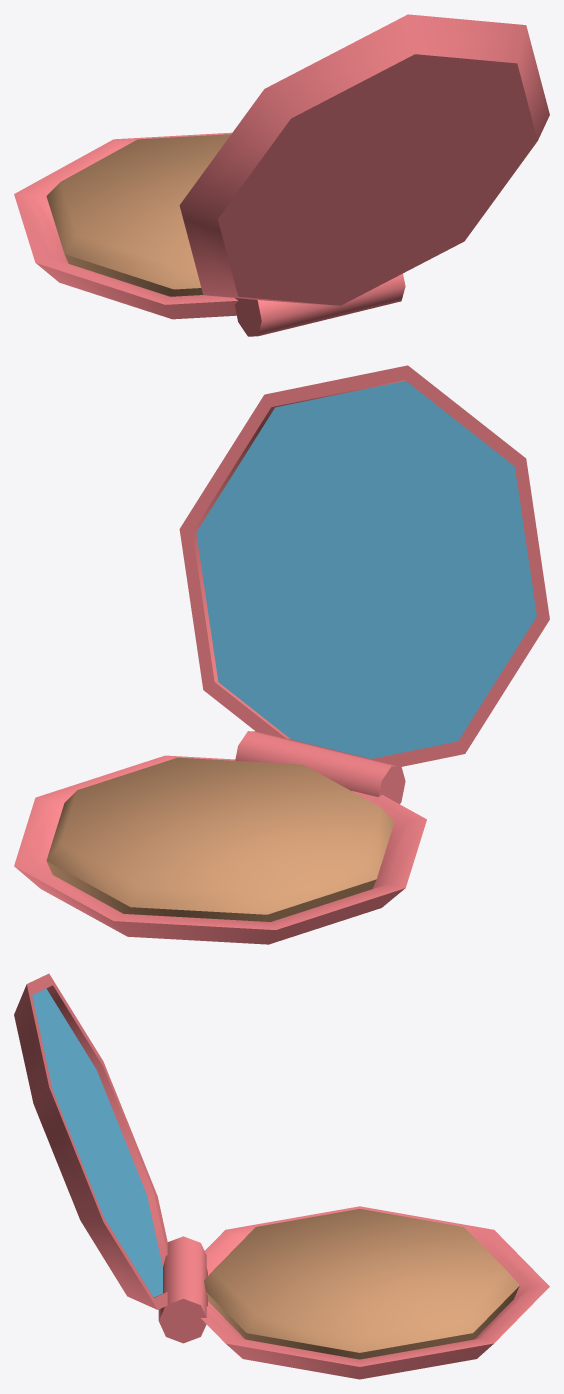
File: Make Up Powder Open.glb
The picture shows the model from 3 angles, top to bottom: view 1: azimuth 30°, elevation 25°; view 2: azimuth 150°, elevation 25°; view 3: azimuth 270°, elevation 25°; orthographic projection. The views are drawn at different scales.
Parts seen in each view (by area): view 1: make up_powder_open.001, make up_powder_sponge.001; view 2: make up_powder_open.001, make up_powder_sponge.001; view 3: make up_powder_open.001, make up_powder_sponge.001.
Boxes of the visible parts, bbox=[...] form: make up_powder_open.001: bbox=[14, 14, 549, 336]; make up_powder_sponge.001: bbox=[46, 134, 231, 296]; make up_powder_open.001: bbox=[14, 365, 549, 944]; make up_powder_sponge.001: bbox=[46, 757, 394, 921]; make up_powder_open.001: bbox=[14, 973, 549, 1379]; make up_powder_sponge.001: bbox=[204, 1209, 519, 1359].
Bounding box in the file's own units: 16.82 × 16.02 × 23.71.
Materials: 1 (1 with a texture image).
